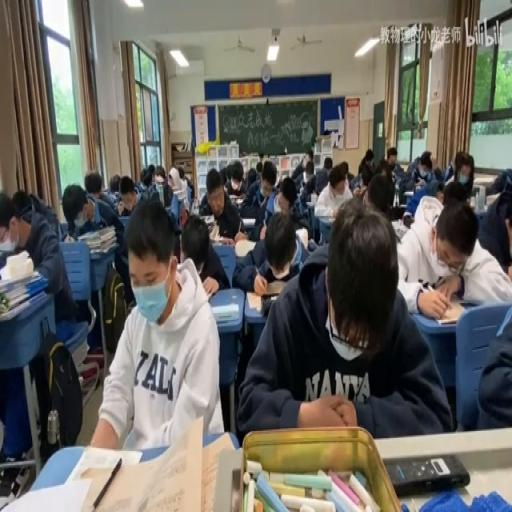calculator: (75, 415, 206, 511), (0, 475, 92, 511), (199, 429, 236, 512), (428, 298, 466, 324), (210, 302, 238, 324), (85, 198, 101, 228), (234, 238, 256, 256), (294, 224, 308, 248), (391, 222, 407, 240), (0, 238, 18, 253), (212, 233, 234, 245), (154, 182, 164, 205), (485, 192, 501, 206), (208, 222, 219, 242), (320, 213, 334, 225), (240, 216, 256, 225), (202, 213, 214, 222), (414, 179, 426, 188), (305, 198, 317, 206), (403, 189, 414, 196)
paper: (240, 199, 450, 440), (0, 186, 81, 461), (68, 178, 130, 313), (474, 290, 511, 431), (178, 209, 226, 294), (477, 174, 512, 273), (244, 163, 286, 239), (398, 148, 444, 205), (360, 166, 402, 224), (165, 165, 188, 225), (302, 155, 328, 202), (115, 174, 140, 216), (198, 165, 221, 210), (223, 161, 248, 202), (442, 180, 467, 208), (0, 192, 15, 238), (84, 171, 105, 202), (11, 189, 33, 218), (356, 148, 374, 178), (290, 155, 306, 183), (140, 164, 154, 188), (245, 168, 260, 189), (393, 160, 405, 184), (275, 191, 289, 209), (109, 173, 120, 195), (443, 161, 453, 182), (154, 166, 165, 185), (454, 159, 465, 178), (386, 146, 396, 166), (219, 165, 228, 185), (352, 183, 365, 195), (341, 159, 349, 178), (322, 155, 332, 169), (420, 156, 430, 170), (402, 214, 412, 228), (177, 164, 185, 180), (434, 165, 442, 181), (306, 150, 314, 164), (429, 155, 436, 171), (305, 169, 313, 182), (256, 160, 262, 174)
person: (384, 454, 468, 496), (261, 294, 281, 316), (264, 279, 286, 296)
